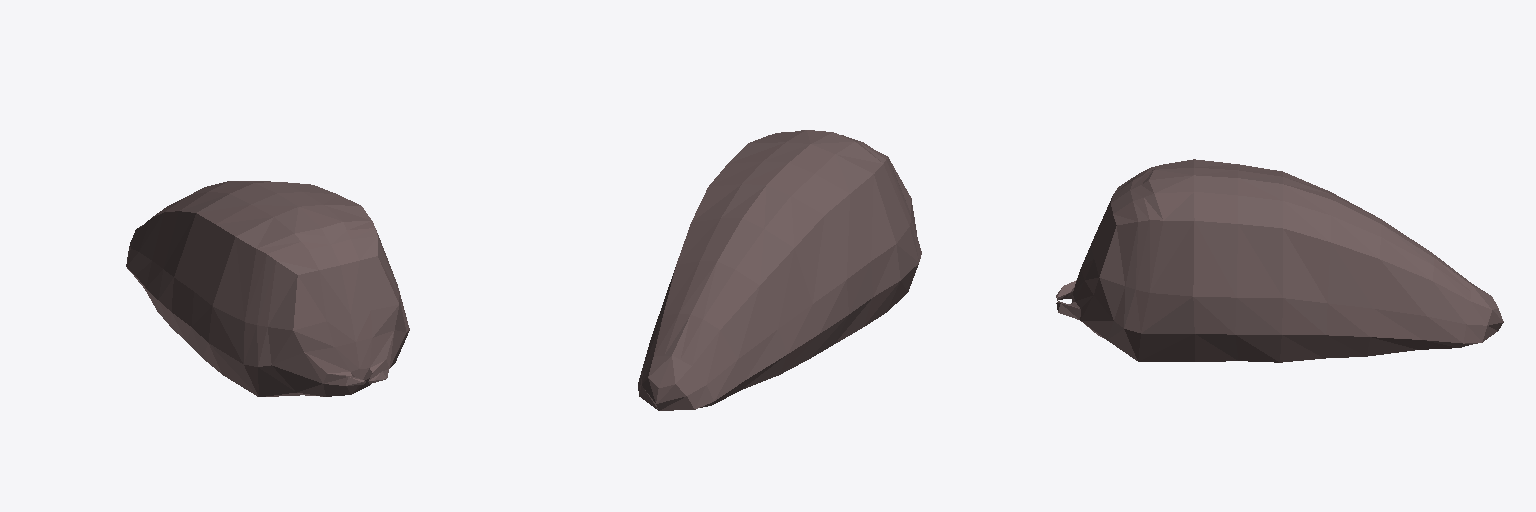
File: maggot6s.obj
The picture shows the model from 3 angles: view 1: azimuth 30°, elevation 25°; view 2: azimuth 150°, elevation 25°; view 3: azimuth 270°, elevation 25°; orthographic projection.
Parts seen in each view (by area): view 1: Sphere_Sphere.001; view 2: Sphere_Sphere.001; view 3: Sphere_Sphere.001.
Boxes of the visible parts, x1=… form: Sphere_Sphere.001: x1=126, y1=181, x2=409, y2=396; Sphere_Sphere.001: x1=638, y1=130, x2=921, y2=410; Sphere_Sphere.001: x1=1056, y1=159, x2=1503, y2=362.
Size of the model in its own units: 1.61 by 1.38 by 3.46.